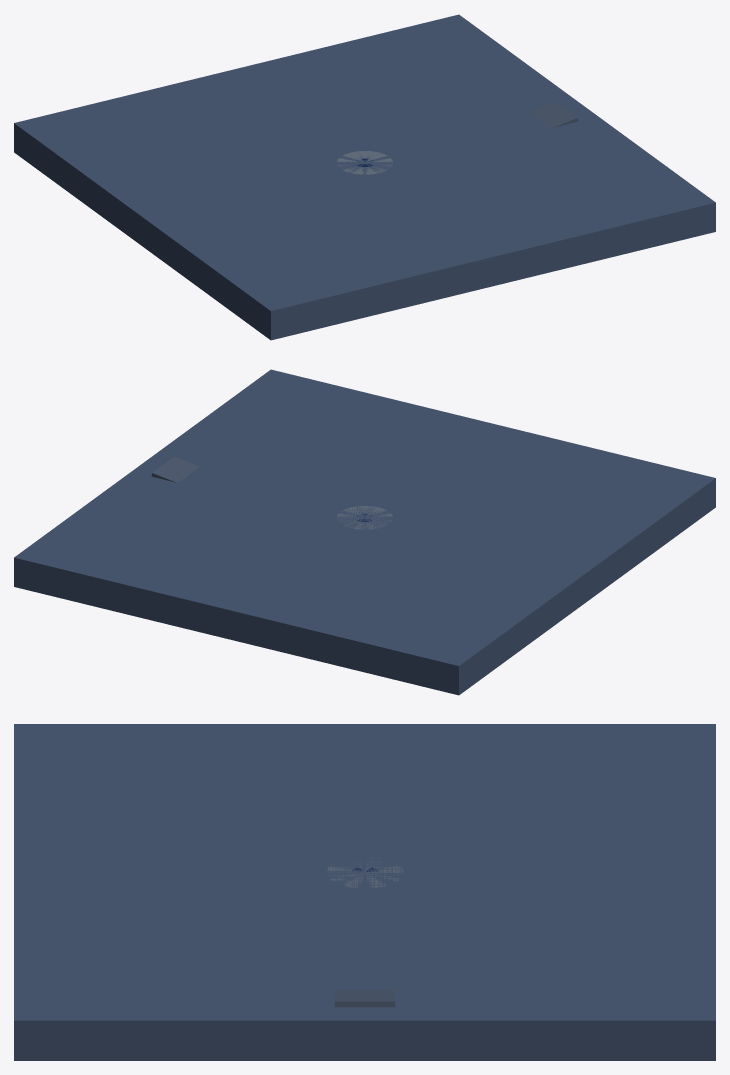
Rendered from propeller-5045-tri-blade.glb.
3 views of the same model, one above another, from view 1: azimuth 30°, elevation 25°; view 2: azimuth 150°, elevation 25°; view 3: azimuth 270°, elevation 25° (orthographic). The views are drawn at different scales.
Parts seen in each view (by area): view 1: propeller-5045-tri-blade_mesh; view 2: propeller-5045-tri-blade_mesh; view 3: propeller-5045-tri-blade_mesh.
Part boxes in pixels (<box>): propeller-5045-tri-blade_mesh: <box>14,14,715,340</box>; propeller-5045-tri-blade_mesh: <box>14,369,715,695</box>; propeller-5045-tri-blade_mesh: <box>14,724,715,1060</box>.
Size of the model in its own units: 127 by 10.05 by 127.
